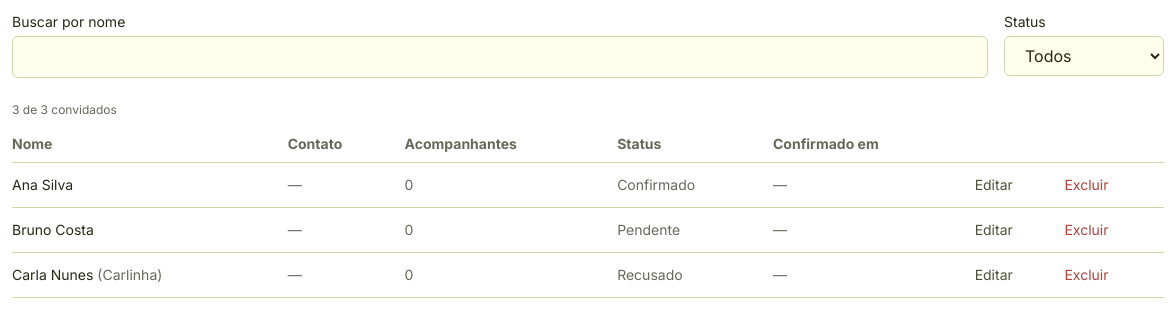
Test case: GuestsTable › filters by attendance status
Select "Confirmado" in the dropdown labelled "Status" at {"x": 1084, "y": 56}, box [1004,36,1164,76]
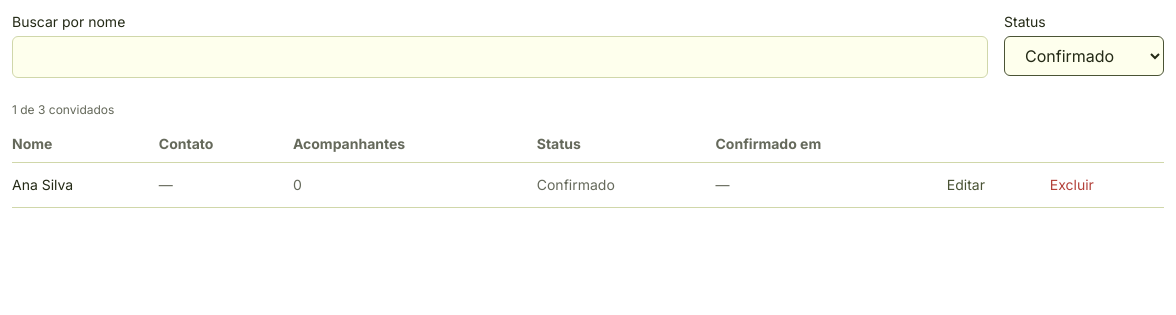
expect the link "Ana Silva" is shown: met, box [12,176,73,193]
expect the link "Bruno Costa" is gone: met
expect the link "Carla Nunes" is gone: met
